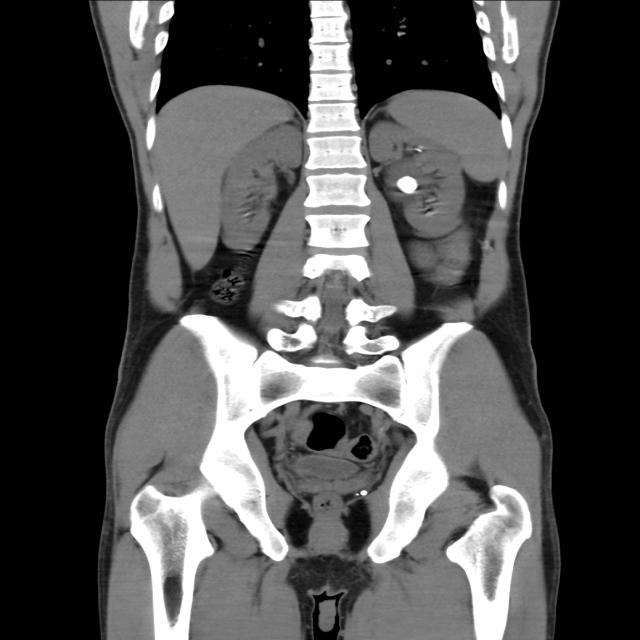kidneystone: (396, 176, 417, 193)
